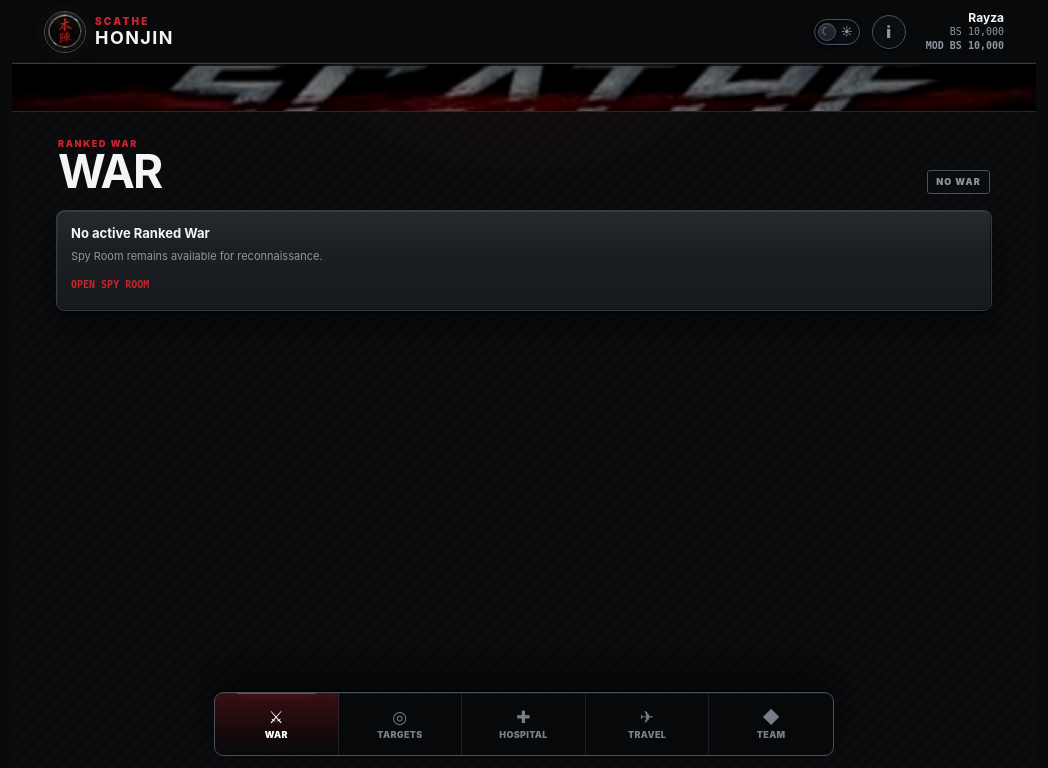
Test: live Spy Room shell › loads one live faction workspace without per-player profile fan-out
Click the button "OPEN SPY ROOM" at (113, 285), box [71, 274, 155, 296]
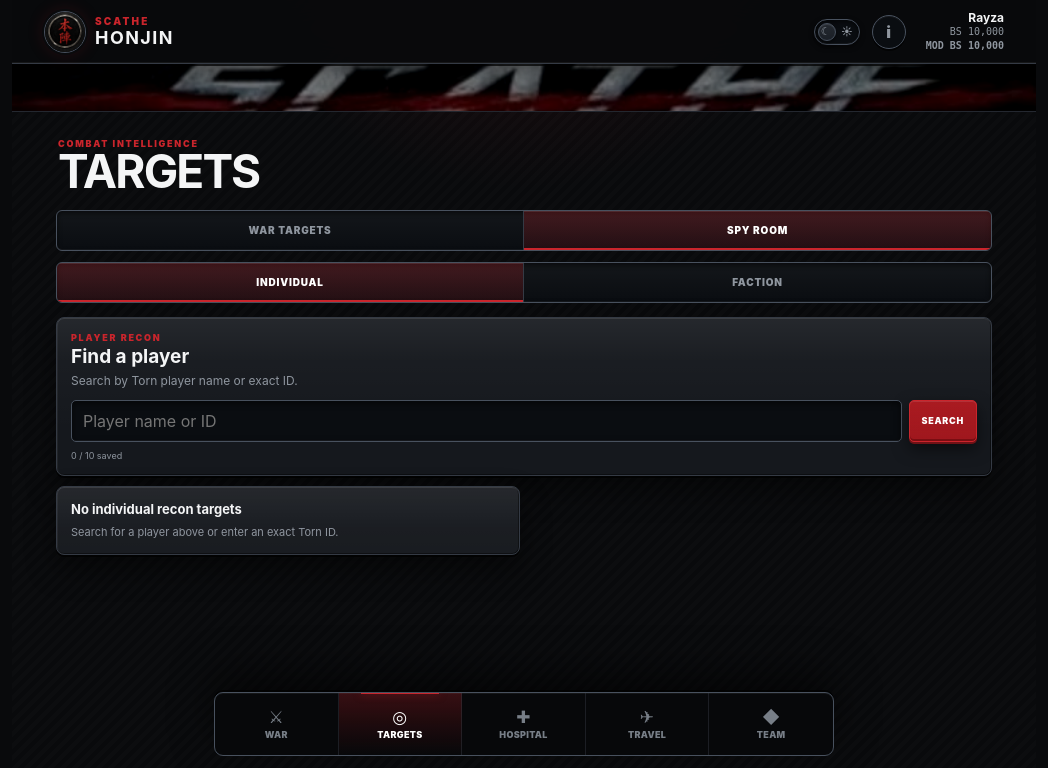
Click the button "FACTION" at (758, 282), box [524, 263, 991, 302]
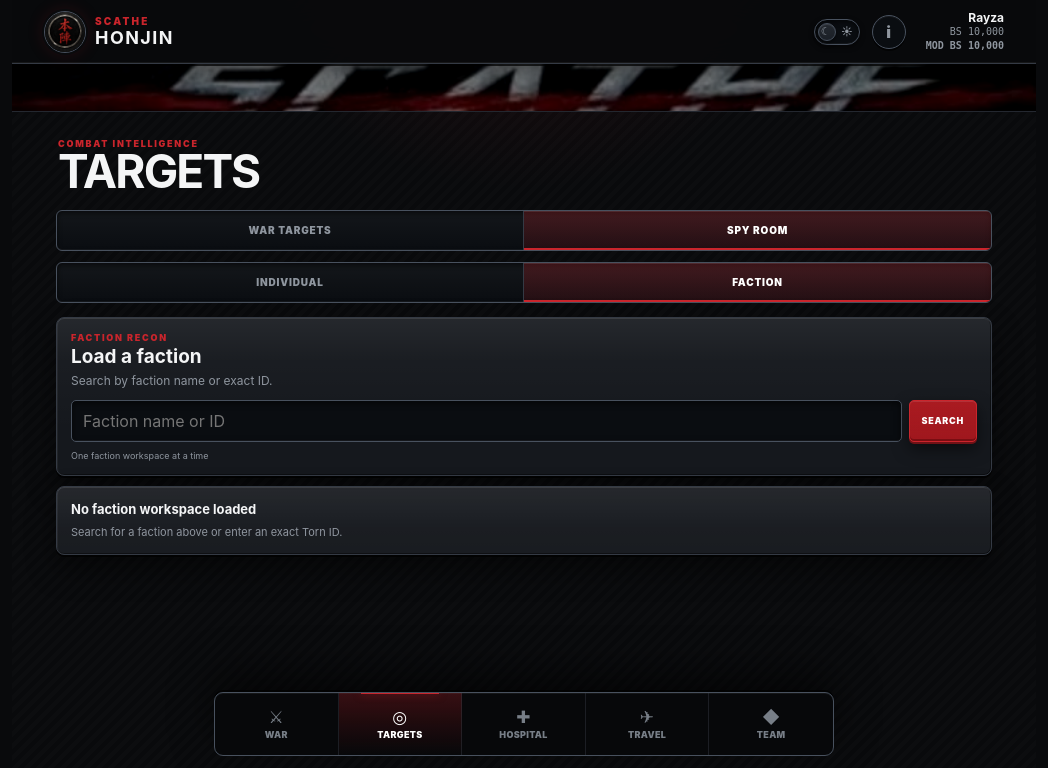
Type "Recon" into the search field labelled "Faction name or ID" at (486, 421), box [71, 400, 902, 442]
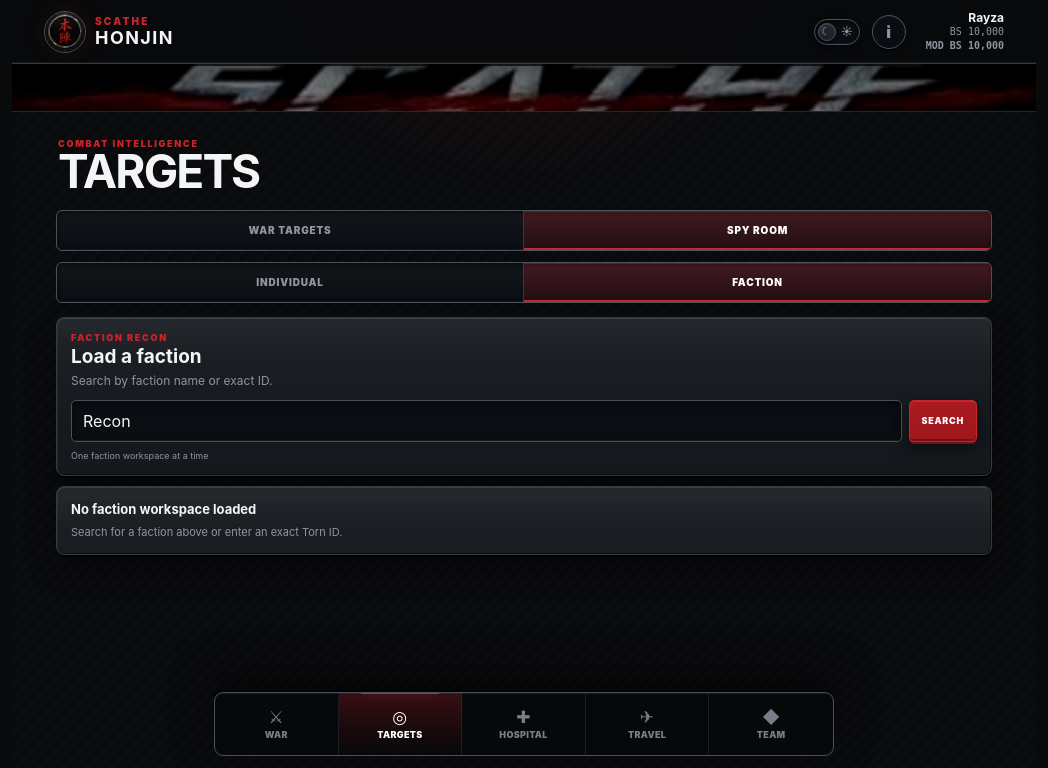
Submit the form named "Faction name or ID", box [71, 400, 977, 442]
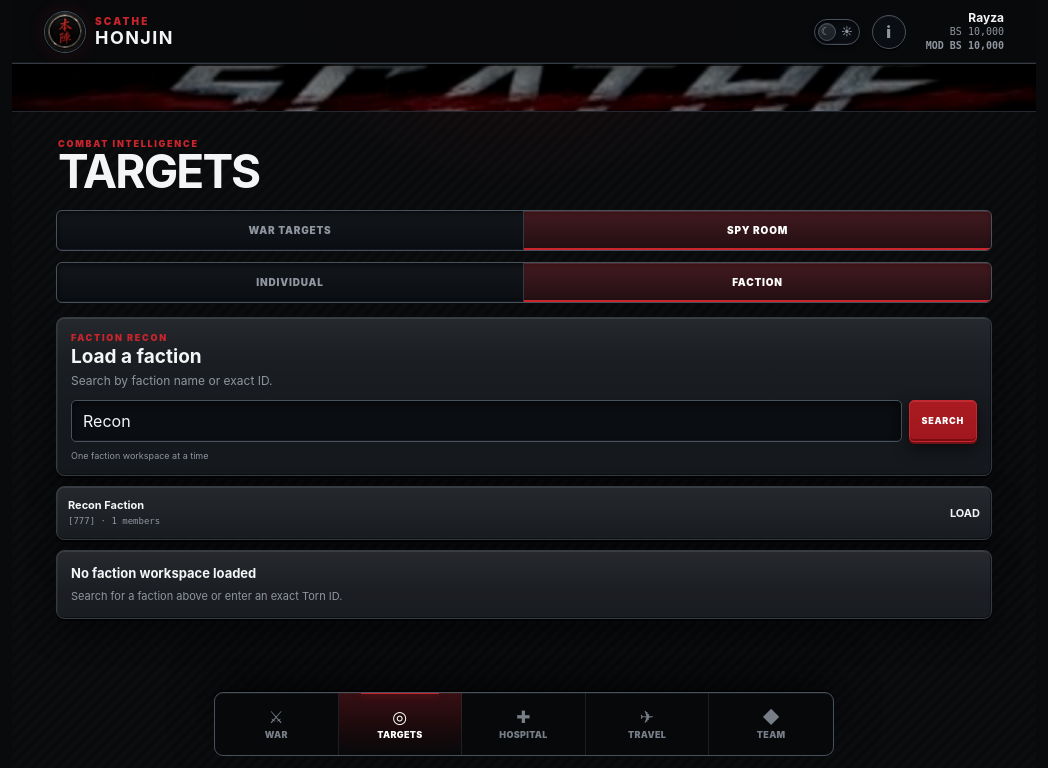
Click the button "Recon Faction [777] · 1 members LOAD" at (106, 505), box [57, 487, 991, 539]
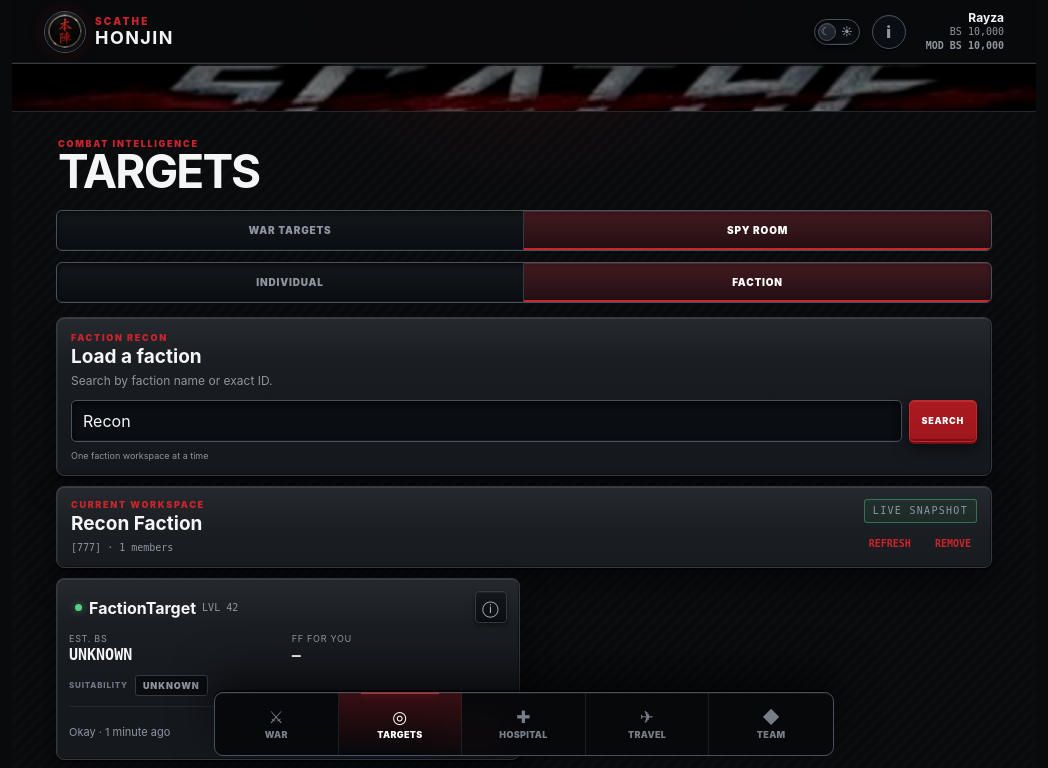
Now the text "FactionTarget" is shown, box [69, 598, 196, 618]
